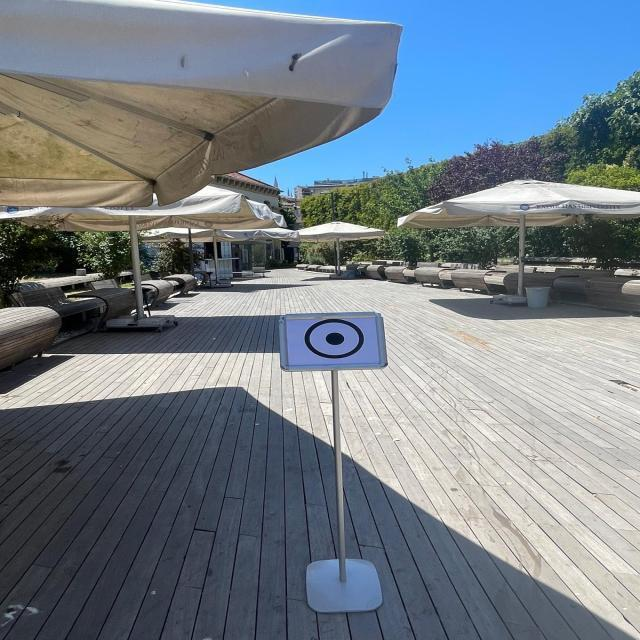Target: (268, 300, 400, 379)
inner: (319, 327, 351, 353)
